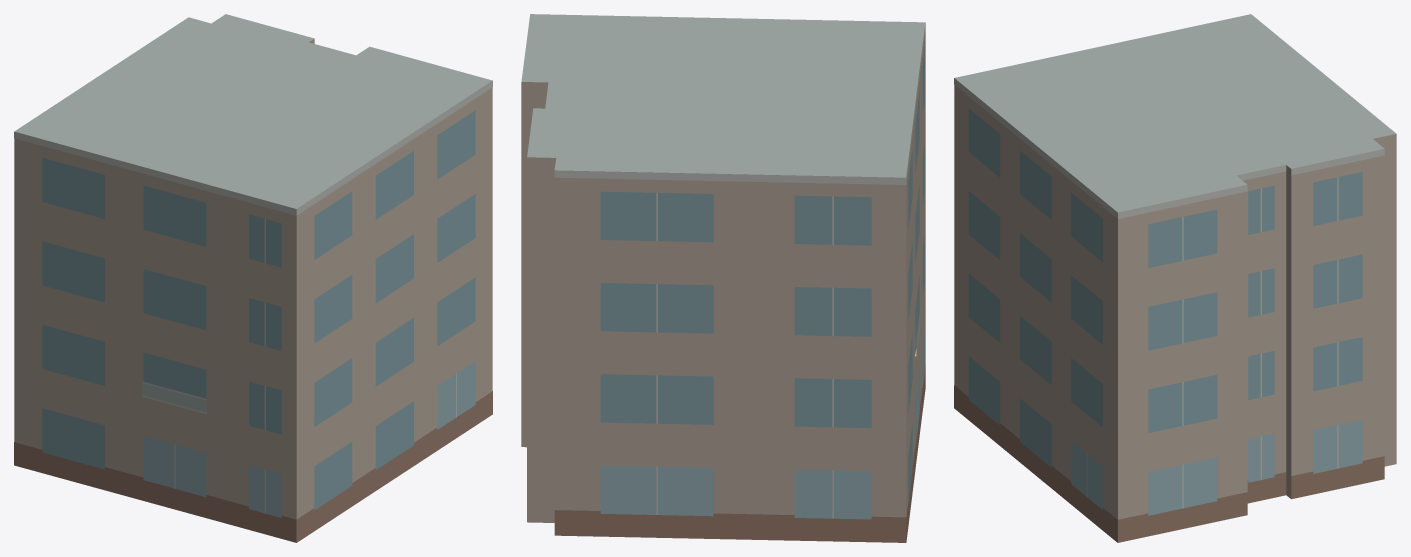
The model's file is survey-upis-32949130.glb.
The picture shows the model from 3 angles, left to right: view 1: azimuth 30°, elevation 25°; view 2: azimuth 150°, elevation 25°; view 3: azimuth 270°, elevation 25°; orthographic projection. The views are drawn at different scales.
Visible parts, largest first — view 1: survey-upis-32949130.tmp; view 2: survey-upis-32949130.tmp; view 3: survey-upis-32949130.tmp.
Part boxes in pixels (x1,y1,x2,y2): survey-upis-32949130.tmp: (14, 14, 492, 542); survey-upis-32949130.tmp: (521, 14, 925, 542); survey-upis-32949130.tmp: (954, 14, 1396, 542).
Bounding box in the file's own units: 15.73 × 12.2 × 14.82.
